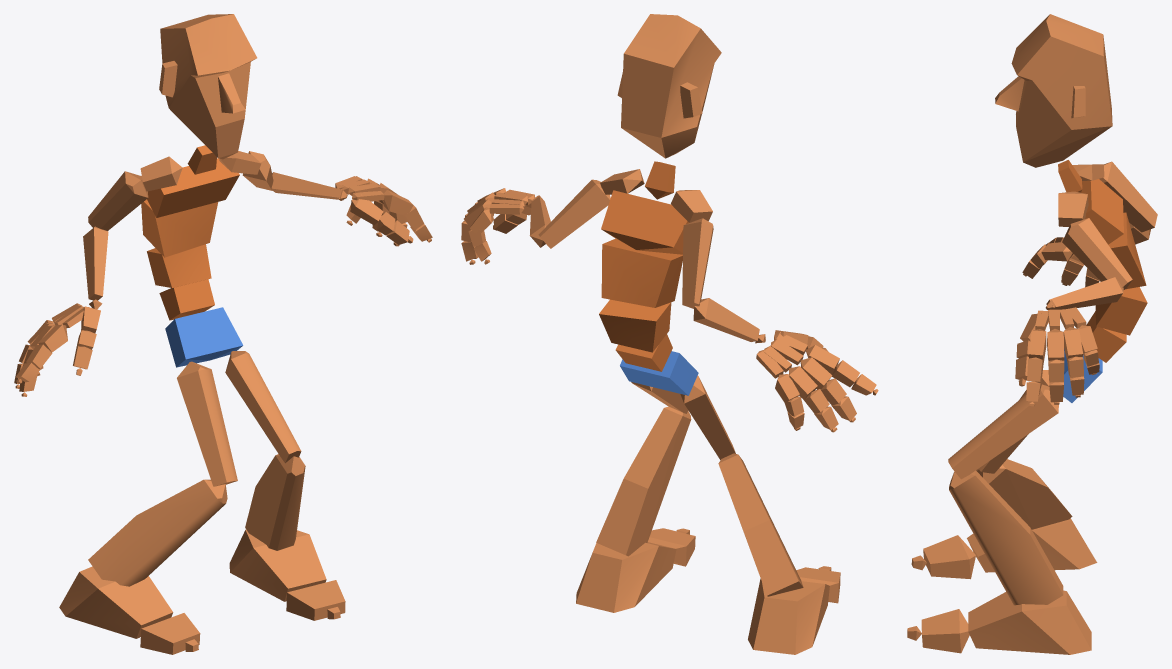
The model's file is prueba255.obj.
The picture shows the model from 3 angles, left to right: view 1: azimuth 30°, elevation 25°; view 2: azimuth 150°, elevation 25°; view 3: azimuth 270°, elevation 25°; orthographic projection. The views are drawn at different scales.
Parts seen in each view (by area): view 1: BOPED_Head, BOPED_R_leg, BOPED_R_foot, BOPED_R_foot01, BOPED_L_leg, BOPED_R_legup, Bone01, BOPED_L_legup, Bone04, Bone05, Bone03, BOPED_R_arm_upper (+9 smaller); view 2: BOPED_Head, BOPED_L_leg, BOPED_R_foot01, BOPED_R_leg, BOPED_R_foot, Bone04, Bone05, Bone03, BOPED_R_arm_upper, BOPED_L_arm_upper, Bone01, BOPED_R_legup (+9 smaller); view 3: BOPED_Head, BOPED_L_leg, BOPED_R_foot01, BOPED_L_legup, BOPED_R_leg, BOPED_R_foot, BOPED_L_arm_upper, Bone05, BOPED_R_foot_toe01, BOPED_R_foot_toe04, BOPED_R_arm_upper, Bone03 (+14 smaller).
Part boxes in pixels (box(x1,y1,x2,y2)): BOPED_Head: box(159, 14, 257, 159); BOPED_R_leg: box(88, 479, 227, 586); BOPED_R_foot: box(59, 566, 173, 638); BOPED_R_foot01: box(229, 529, 326, 601); BOPED_L_leg: box(245, 454, 305, 550); BOPED_R_legup: box(177, 361, 237, 486); Bone01: box(165, 307, 243, 367); BOPED_L_legup: box(225, 351, 301, 463); Bone04: box(141, 199, 218, 257); Bone05: box(147, 158, 239, 217); Bone03: box(147, 244, 211, 287); BOPED_R_arm_upper: box(88, 171, 148, 230); BOPED_Head: box(617, 14, 721, 158); BOPED_L_leg: box(596, 406, 691, 556); BOPED_R_foot01: box(576, 542, 676, 612); BOPED_R_leg: box(718, 453, 803, 596); BOPED_R_foot: box(748, 578, 829, 654); Bone04: box(601, 238, 682, 307); Bone05: box(601, 190, 689, 254); Bone03: box(599, 299, 671, 352); BOPED_R_arm_upper: box(682, 218, 713, 308); BOPED_L_arm_upper: box(538, 179, 610, 248); Bone01: box(620, 351, 698, 395); BOPED_R_legup: box(680, 375, 735, 459); BOPED_Head: box(995, 14, 1112, 167); BOPED_L_leg: box(949, 470, 1063, 605); BOPED_R_foot01: box(968, 590, 1091, 654); BOPED_L_legup: box(948, 384, 1058, 479); BOPED_R_leg: box(976, 459, 1072, 529); BOPED_R_foot: box(967, 518, 1097, 572); BOPED_L_arm_upper: box(1062, 218, 1132, 289); Bone05: box(1081, 179, 1123, 244); BOPED_R_foot_toe01: box(923, 535, 975, 579); BOPED_R_foot_toe04: box(921, 609, 969, 653); BOPED_R_arm_upper: box(1099, 161, 1157, 232); Bone03: box(1095, 287, 1147, 335).
Size of the model in its own units: 130 by 175 by 67.06.
